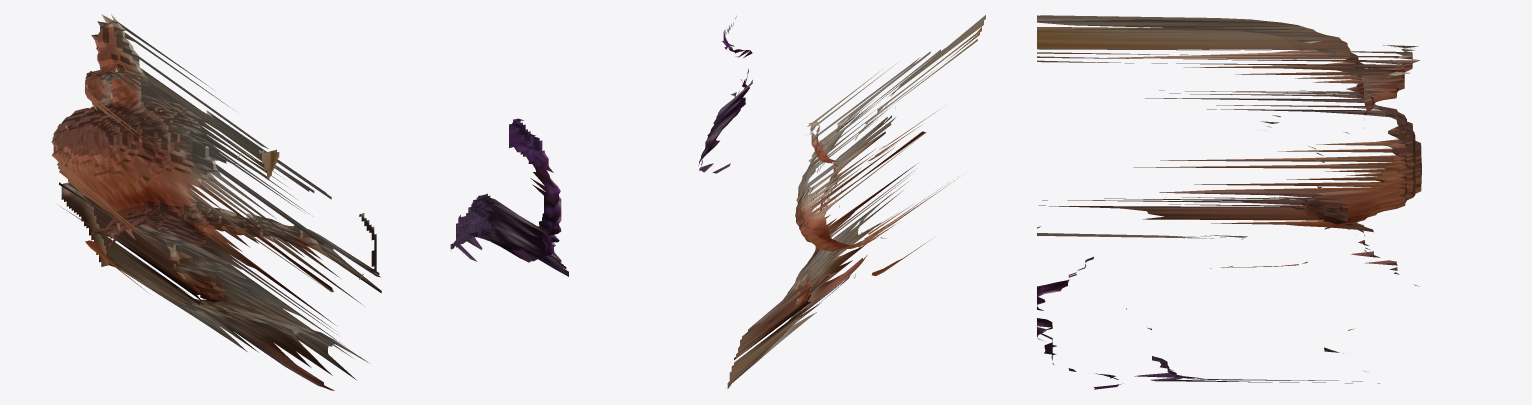
File: frame_00335.glb
The picture shows the model from 3 angles, left to right: view 1: azimuth 30°, elevation 25°; view 2: azimuth 150°, elevation 25°; view 3: azimuth 270°, elevation 25°; orthographic projection. The views are drawn at different scales.
Visible parts, largest first — view 1: geometry_0; view 2: geometry_0; view 3: geometry_0.
Boxes of the visible parts, left/top/right/bottom form: geometry_0: left=51, top=14, right=568, bottom=390; geometry_0: left=698, top=15, right=985, bottom=388; geometry_0: left=1037, top=15, right=1421, bottom=389.
Bounding box in the file's own units: 0.1357 × 0.1174 × 0.16.
Materials: 1 (1 with a texture image).
